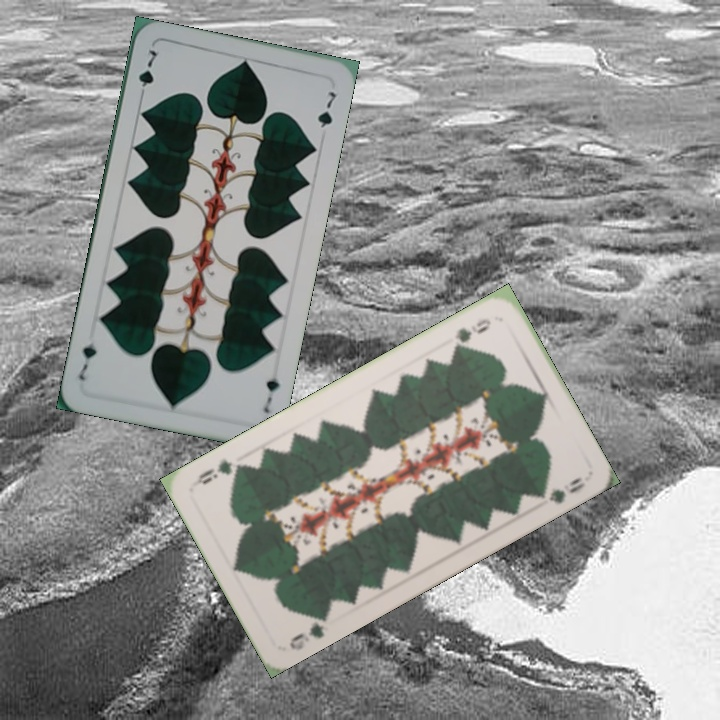G7: (134, 45, 160, 103), (259, 373, 282, 416)
G9: (285, 608, 331, 653), (448, 314, 494, 353)
